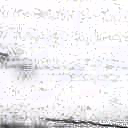crackTip: (42, 114, 128, 127)
